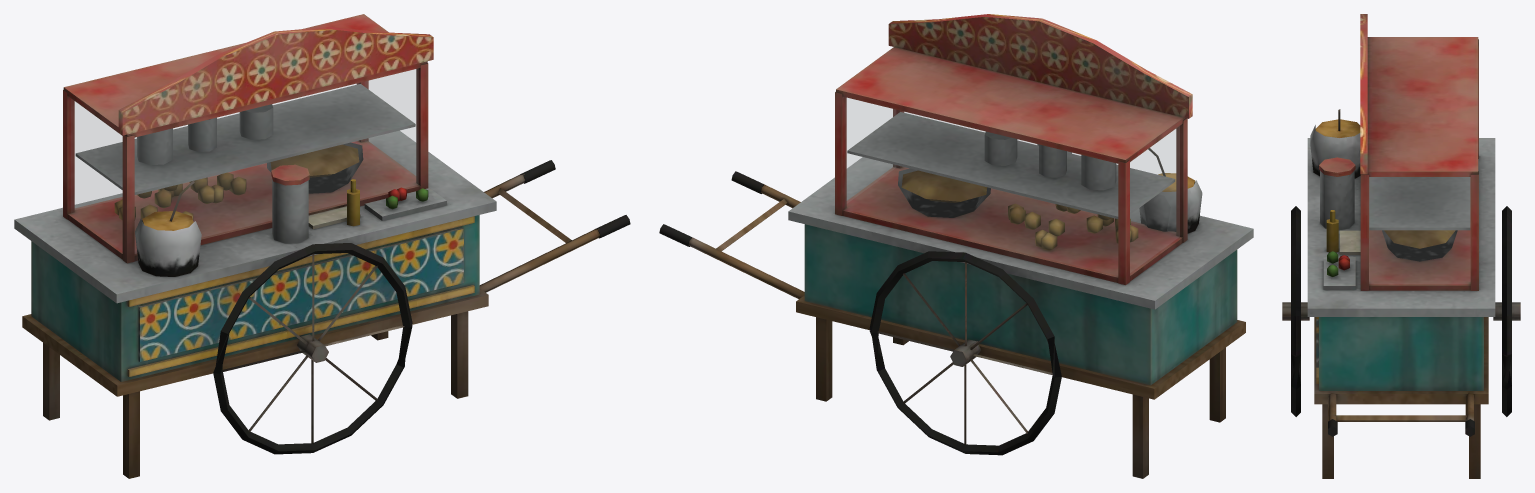
File: food_cart.glb
3 views of the same model, side by side, from view 1: azimuth 30°, elevation 25°; view 2: azimuth 150°, elevation 25°; view 3: azimuth 270°, elevation 25° (orthographic). The views are drawn at different scales.
Parts seen in each view (by area): view 1: body, glass; view 2: body, glass; view 3: body, glass.
Boxes of the visible parts, bbox=[...] form: body: bbox=[14, 14, 630, 478]; glass: bbox=[71, 69, 417, 252]; body: bbox=[659, 14, 1253, 478]; glass: bbox=[845, 98, 1179, 274]; body: bbox=[1282, 14, 1520, 478]; glass: bbox=[1369, 177, 1469, 283].
Bounding box in the file's own units: 2.43 × 1.74 × 1.04.
2 materials, 1 textured.
